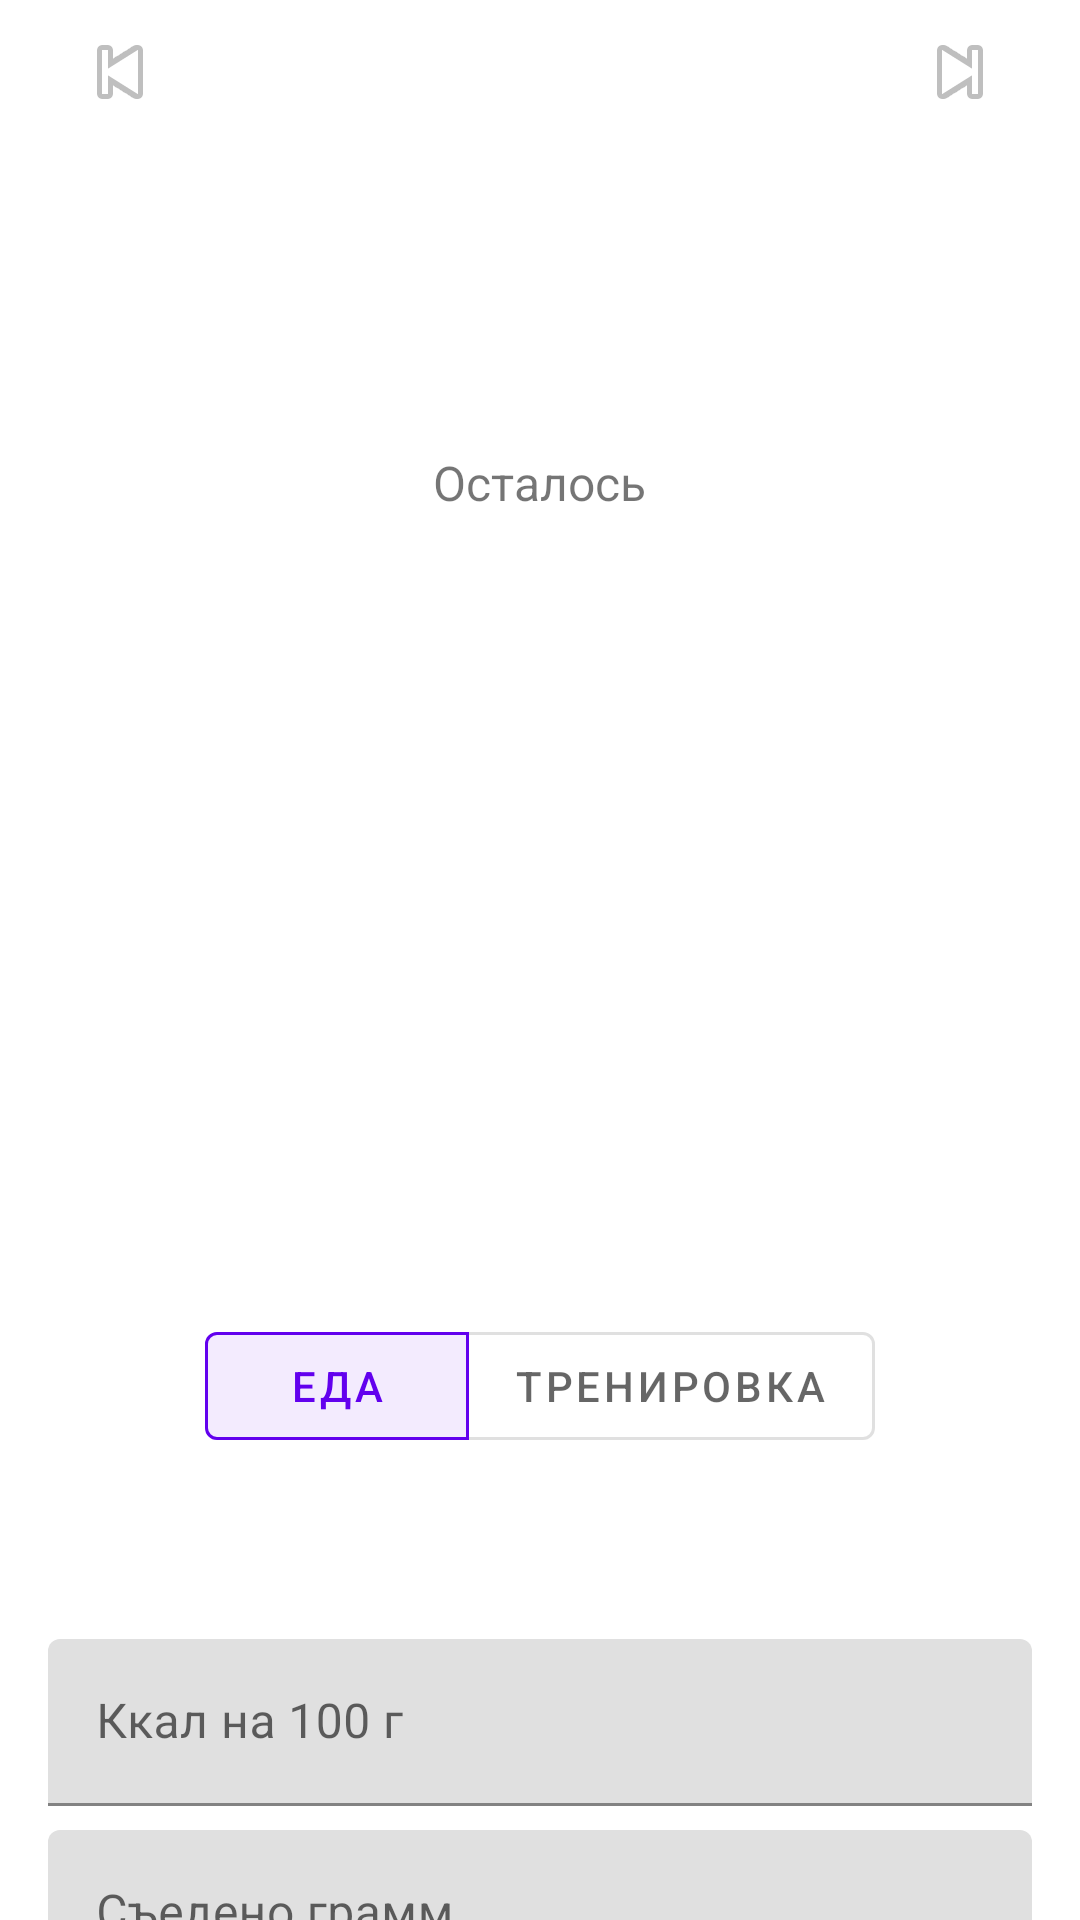

Icon click points for this 1080 × 1920 phone screenshot, format (x=x, y=y):
Предыдущий день: (x=120, y=72)
Следующий день: (x=960, y=72)
